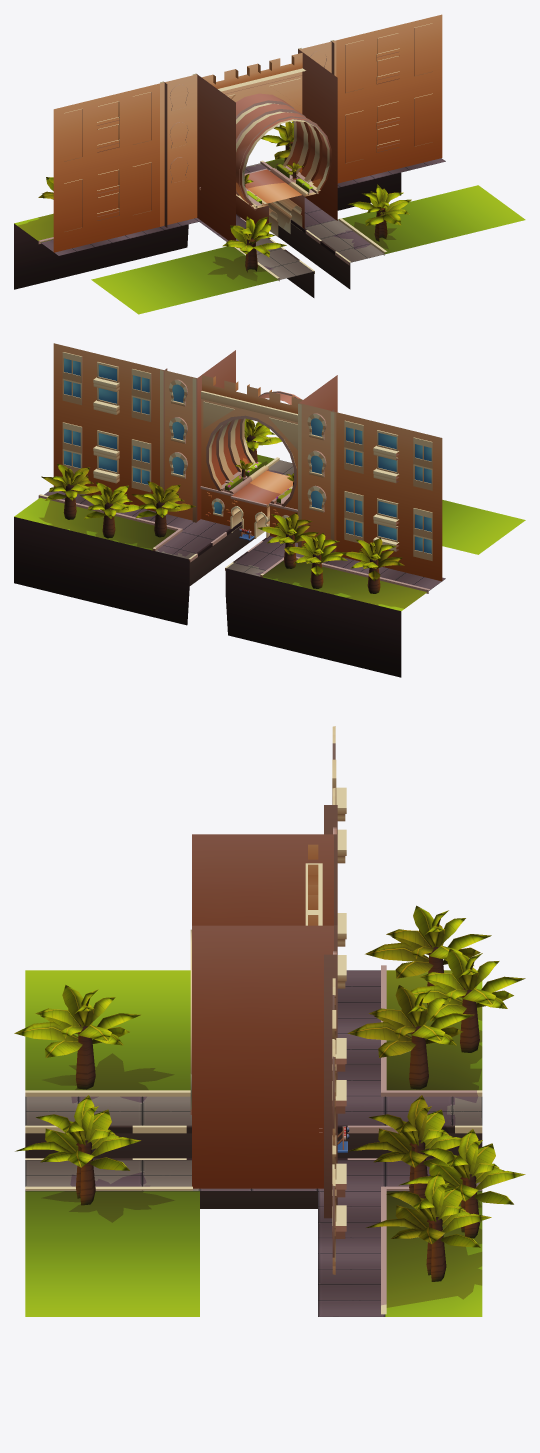
The model's file is gates.fbx.
3 views of the same model, one above another, from view 1: azimuth 30°, elevation 25°; view 2: azimuth 150°, elevation 25°; view 3: azimuth 270°, elevation 25° (orthographic). The views are drawn at different scales.
Visible parts, largest first — view 1: 1.104_Dubai_gates_base, 1.104_Dubai_gates_sides; view 2: 1.104_Dubai_gates_base, 1.104_Dubai_gates_sides; view 3: 1.104_Dubai_gates_base.
Boxes of the visible parts, x1,y1,x2,y2 form: 1.104_Dubai_gates_base: (14, 14, 525, 314); 1.104_Dubai_gates_sides: (244, 168, 302, 236); 1.104_Dubai_gates_base: (14, 343, 525, 677); 1.104_Dubai_gates_sides: (230, 470, 293, 540); 1.104_Dubai_gates_base: (14, 726, 525, 1316).
Size of the model in its own units: 43973 by 22662 by 27264.
1 material, 1 textured.
